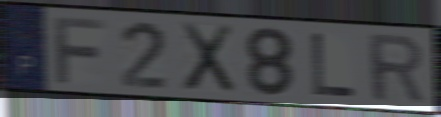2: (118, 19, 170, 91)
8: (244, 25, 296, 98)
F: (51, 14, 108, 86)
L: (308, 30, 358, 99)
R: (365, 32, 427, 105)
X: (178, 21, 237, 95)
